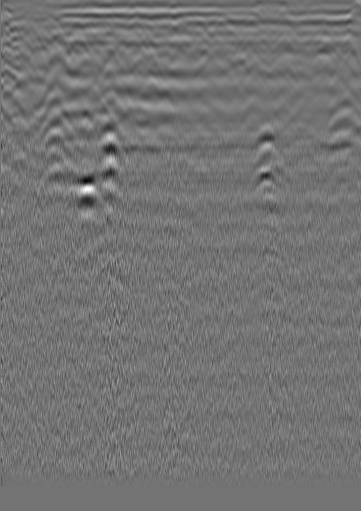가스: (244, 164, 285, 201)
상수: (2, 24, 22, 44)
오수: (311, 15, 331, 35)
우수: (121, 19, 141, 39)
